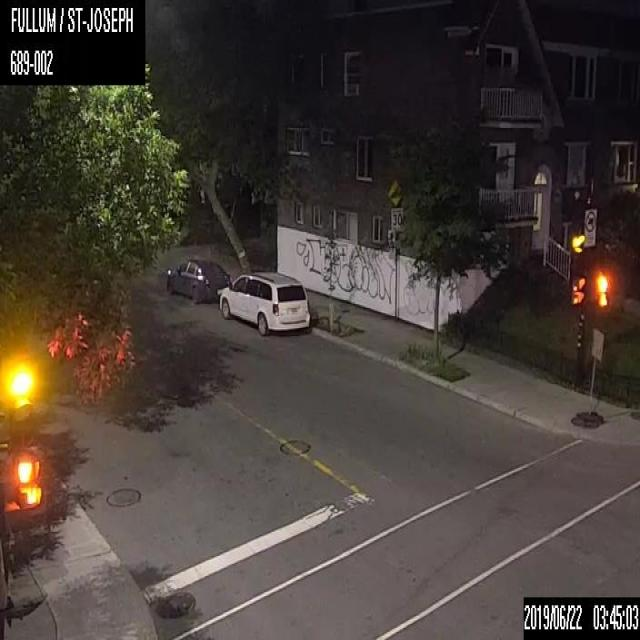construction: (570, 327, 604, 428)
vehicle: (217, 271, 311, 336), (167, 258, 230, 304)
